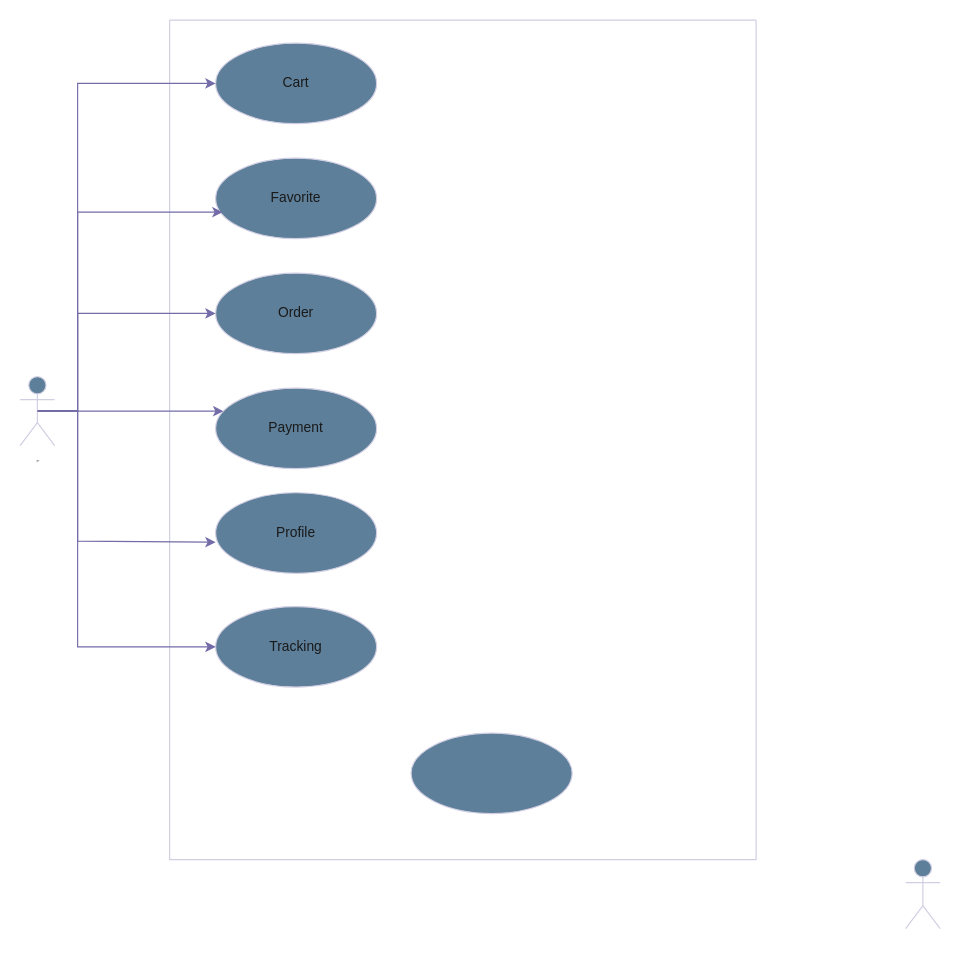
The diagram is 963 pixels wide and 973 high, and some of its shapes have lost their labels. Here are the shapes that lost their labels. From the top down, the centre of each, then its label:
At point (491, 773): "Login".
At point (922, 893): "Admin".
